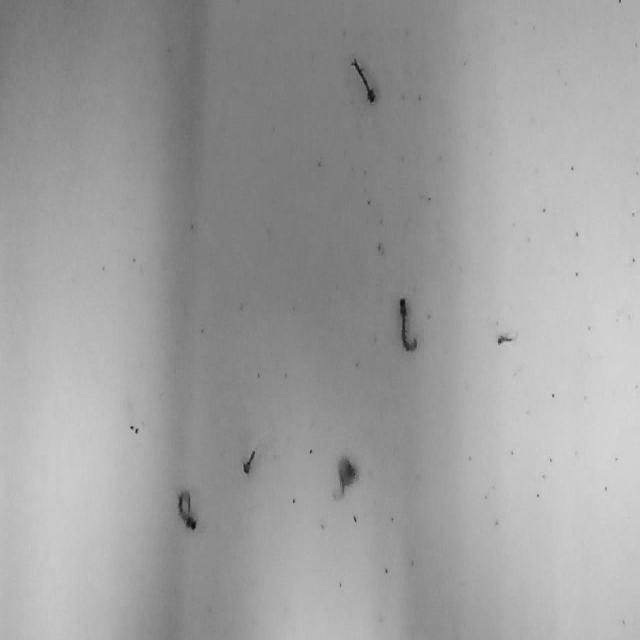larvas: (350, 55, 376, 103), (398, 297, 418, 352), (334, 458, 358, 496), (177, 489, 196, 531), (242, 449, 255, 472), (497, 331, 517, 345)
